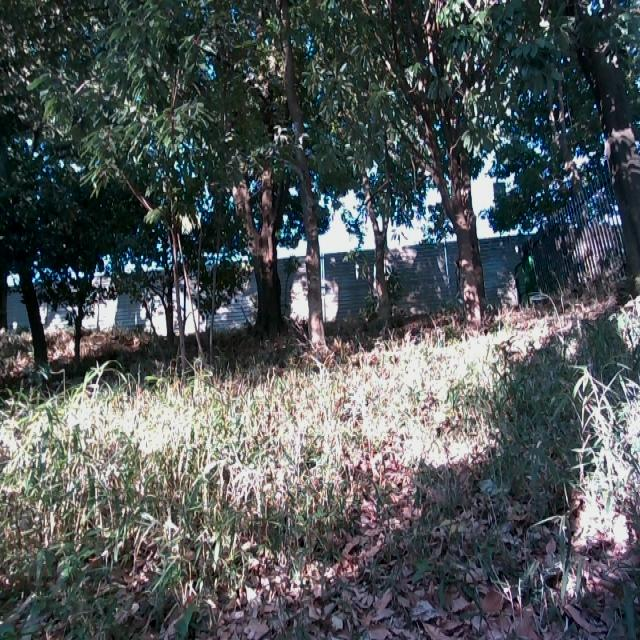artifact: (526, 151, 640, 309)
tree: (362, 0, 504, 335), (260, 0, 340, 363), (214, 0, 292, 363), (548, 0, 640, 295), (113, 112, 198, 367), (346, 115, 403, 332), (0, 237, 57, 395), (57, 252, 105, 378)
